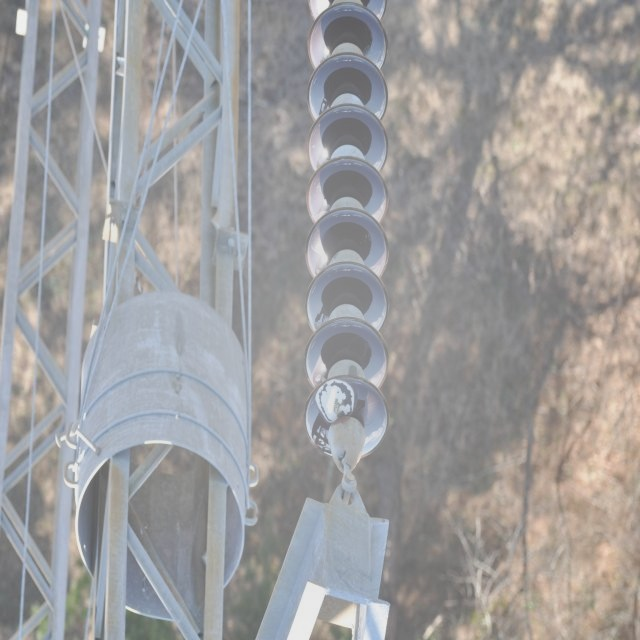insulator: (304, 0, 388, 458)
